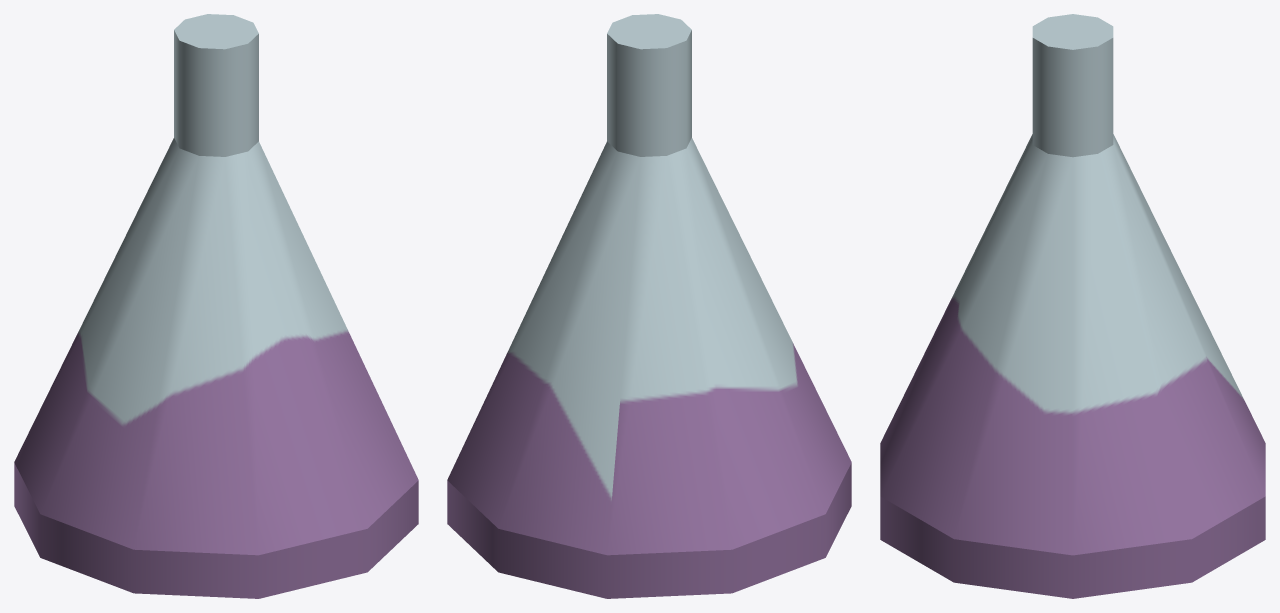
Rendered from Erlemeijer.fbx.
3 views of the same model, side by side, from view 1: azimuth 30°, elevation 25°; view 2: azimuth 150°, elevation 25°; view 3: azimuth 270°, elevation 25° (orthographic).
Parts seen in each view (by area): view 1: Erlemeijer; view 2: Erlemeijer; view 3: Erlemeijer.
Boxes of the visible parts, box(x1,y1,x2,y2) form: Erlemeijer: box(14, 14, 418, 598); Erlemeijer: box(447, 14, 851, 598); Erlemeijer: box(880, 14, 1265, 598).
Size of the model in its own units: 13.3 by 17.43 by 12.65.
1 material, 1 textured.
